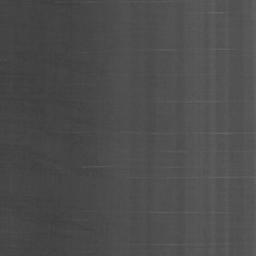Waist folding: (133, 210, 224, 247), (168, 99, 256, 136), (122, 130, 187, 155), (192, 175, 256, 180), (81, 164, 111, 170), (131, 0, 172, 4), (158, 47, 176, 53), (209, 10, 225, 15), (213, 47, 232, 51), (57, 2, 94, 4)
